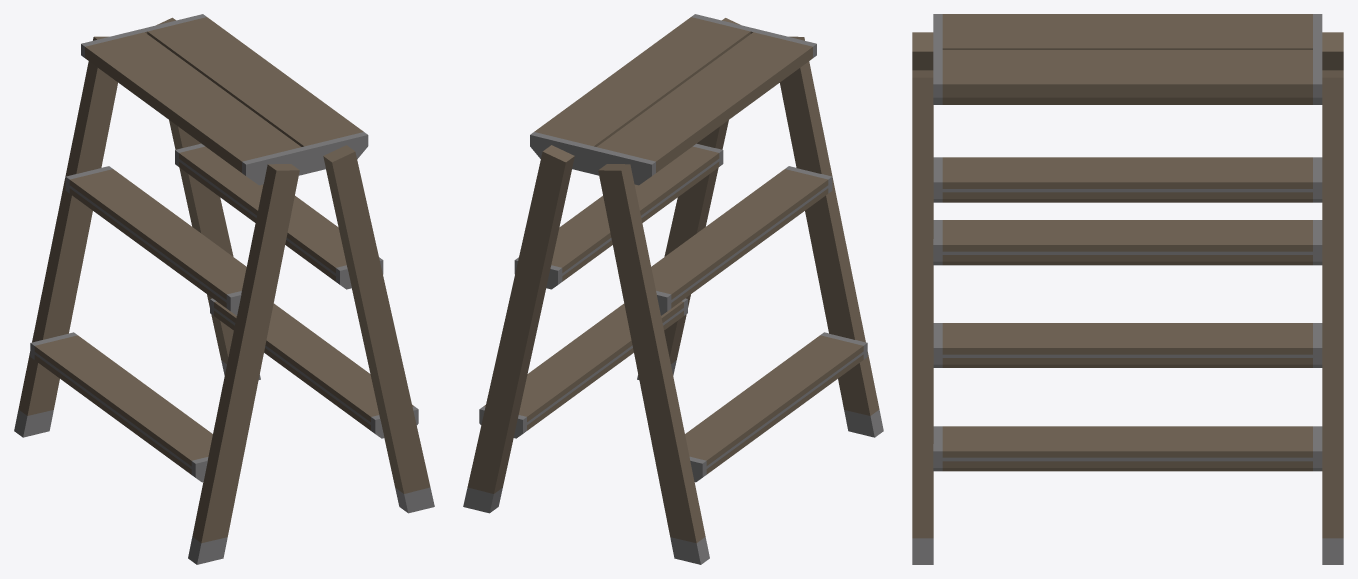
The model's file is SM_ladder_small.gltf.
3 views of the same model, side by side, from view 1: azimuth 30°, elevation 25°; view 2: azimuth 150°, elevation 25°; view 3: azimuth 270°, elevation 25° (orthographic). The views are drawn at different scales.
Parts seen in each view (by area): view 1: SM_ladder_small; view 2: SM_ladder_small; view 3: SM_ladder_small.
Part boxes in pixels (bbox=[...]): SM_ladder_small: bbox=[14, 14, 434, 564]; SM_ladder_small: bbox=[463, 14, 883, 564]; SM_ladder_small: bbox=[912, 14, 1343, 564].
Bounding box in the file's own units: 0.5552 × 0.8467 × 0.7393.
Materials: 1 (1 with a texture image).
